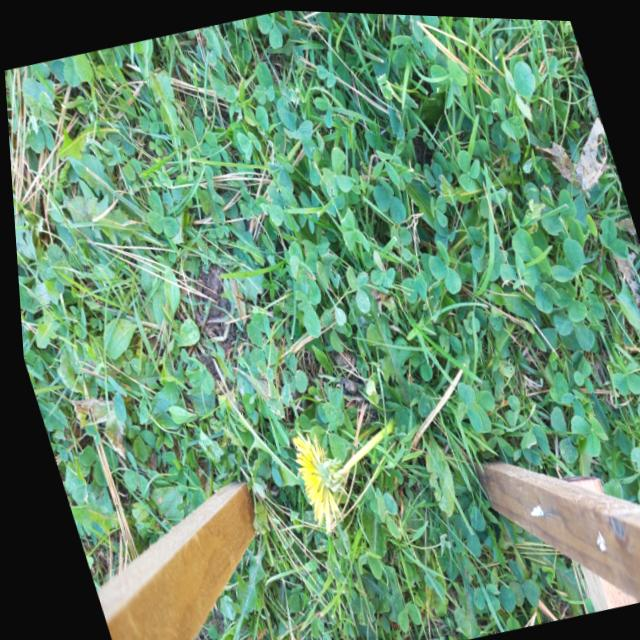base: (370, 397, 400, 442)
